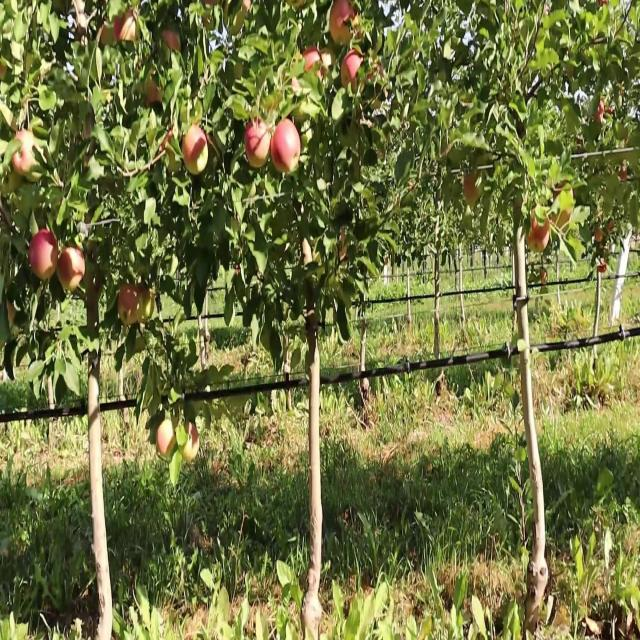apple: (28, 227, 60, 283), (272, 120, 303, 176), (120, 284, 155, 327), (184, 120, 209, 178), (244, 120, 271, 171), (60, 241, 87, 292), (12, 127, 37, 178), (328, 0, 353, 50), (340, 49, 363, 89), (120, 284, 140, 327), (552, 191, 574, 228), (156, 419, 176, 459), (144, 71, 164, 108), (304, 49, 325, 80), (164, 127, 179, 169), (528, 227, 551, 254), (184, 426, 200, 464), (532, 213, 551, 244), (364, 63, 385, 91), (124, 14, 141, 43), (532, 227, 550, 254), (320, 49, 336, 78), (164, 28, 182, 53), (352, 7, 365, 41), (464, 177, 479, 206), (100, 21, 115, 48), (112, 14, 124, 44), (596, 106, 606, 124), (596, 227, 604, 242), (608, 220, 616, 235), (600, 263, 608, 277), (620, 170, 628, 183), (5, 65, 7, 73)
